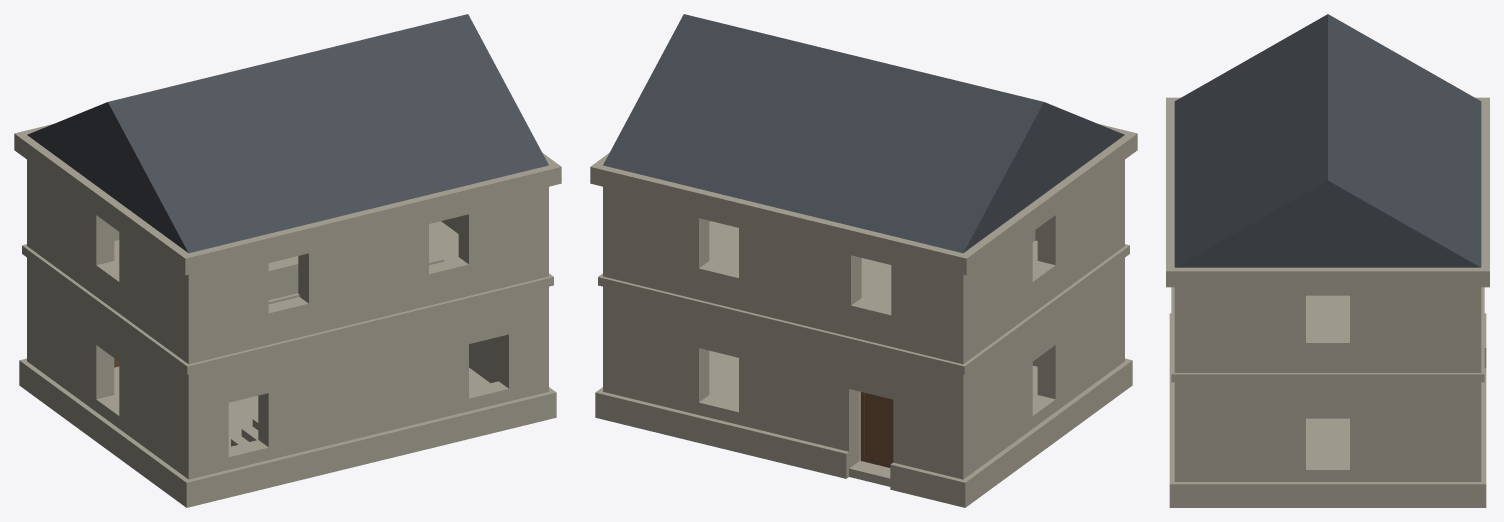
3 renders of one model, left to right at view 1: azimuth 30°, elevation 25°; view 2: azimuth 150°, elevation 25°; view 3: azimuth 270°, elevation 25°, orthographic. The views are drawn at different scales.
Parts seen in each view (by area): view 1: body_stone, roof_slate, trim_stone; view 2: body_stone, roof_slate, trim_stone, door_timber; view 3: roof_slate, body_stone, trim_stone.
Boxes of the visible parts, x1=… form: body_stone: x1=27, y1=160, x2=548, y2=479; roof_slate: x1=27, y1=14, x2=548, y2=253; trim_stone: x1=14, y1=124, x2=561, y2=507; body_stone: x1=603, y1=160, x2=1124, y2=486; roof_slate: x1=603, y1=14, x2=1124, y2=253; trim_stone: x1=590, y1=124, x2=1137, y2=507; door_timber: x1=860, y1=392, x2=893, y2=467; roof_slate: x1=1174, y1=14, x2=1481, y2=267; body_stone: x1=1174, y1=287, x2=1481, y2=481; trim_stone: x1=1166, y1=97, x2=1489, y2=507.
Size of what is drawn, in the model's own units: 9.4 by 8.2 by 7.4.
